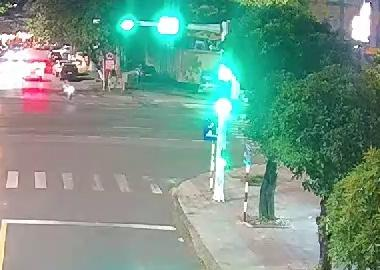green_light: (155, 13, 181, 38), (214, 84, 233, 117), (117, 16, 138, 34)
stop_line: (3, 219, 175, 230)
